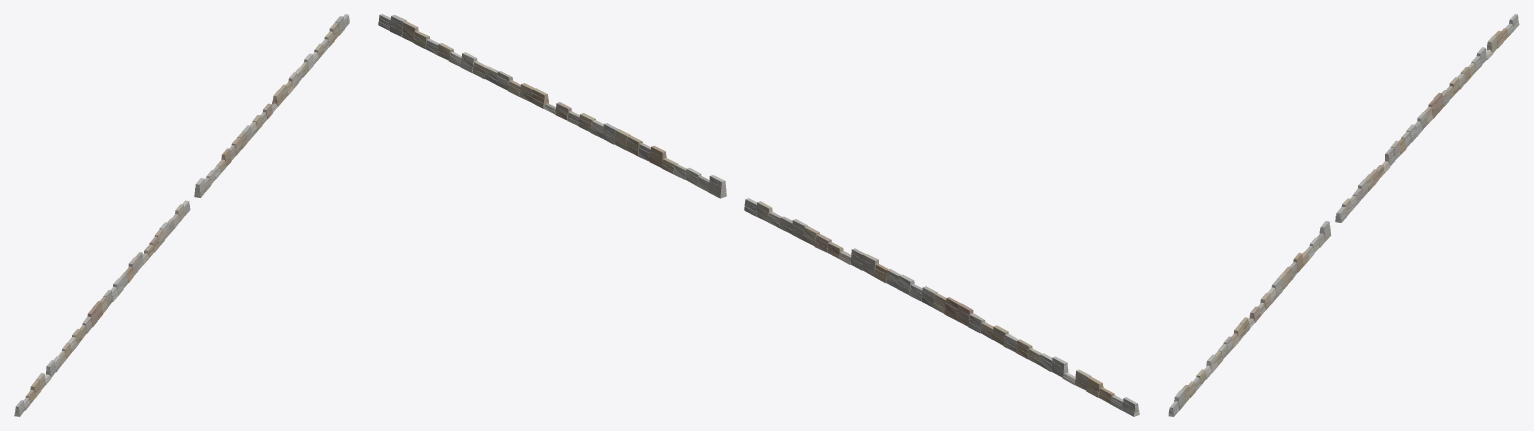
File: farm_11_15_mid.glb
3 views of the same model, side by side, from view 1: azimuth 90°, elevation 25°; view 2: azimuth 150°, elevation 25°; view 3: azimuth 270°, elevation 25° (orthographic). The views are drawn at different scales.
Visible parts, largest first — view 1: geometry_0; view 2: geometry_0; view 3: geometry_0.
Boxes of the visible parts, box(x1,y1,x2,y2) form: geometry_0: box(14, 14, 349, 416); geometry_0: box(378, 14, 1139, 416); geometry_0: box(1168, 14, 1519, 416).
Bounding box in the file's own units: 95.08 × 2.57 × 34.99.
